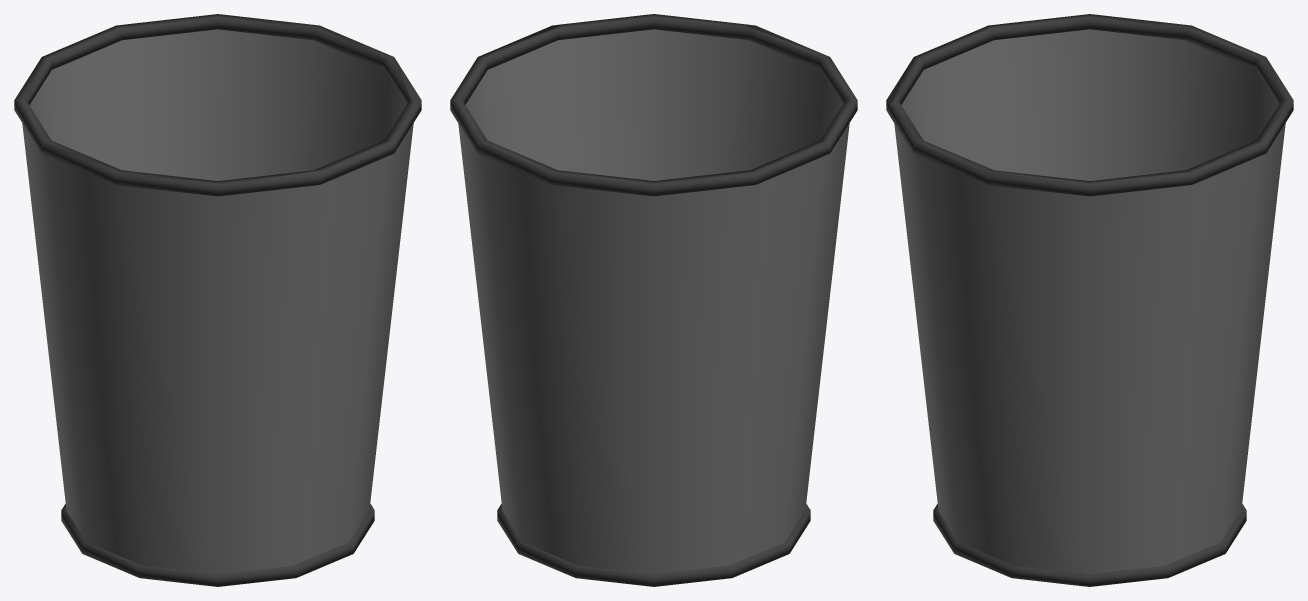
Rendered from papercup.glb.
3 renders of one model, left to right at view 1: azimuth 30°, elevation 25°; view 2: azimuth 150°, elevation 25°; view 3: azimuth 270°, elevation 25°, orthographic.
Parts seen in each view (by area): view 1: Cup; view 2: Cup; view 3: Cup.
Part boxes in pixels (bbox=[...]): Cup: bbox=[14, 14, 421, 586]; Cup: bbox=[450, 14, 857, 586]; Cup: bbox=[886, 14, 1293, 586].
Size of the model in its own units: 0.1271 by 0.145 by 0.1271.
1 material, 1 textured.
